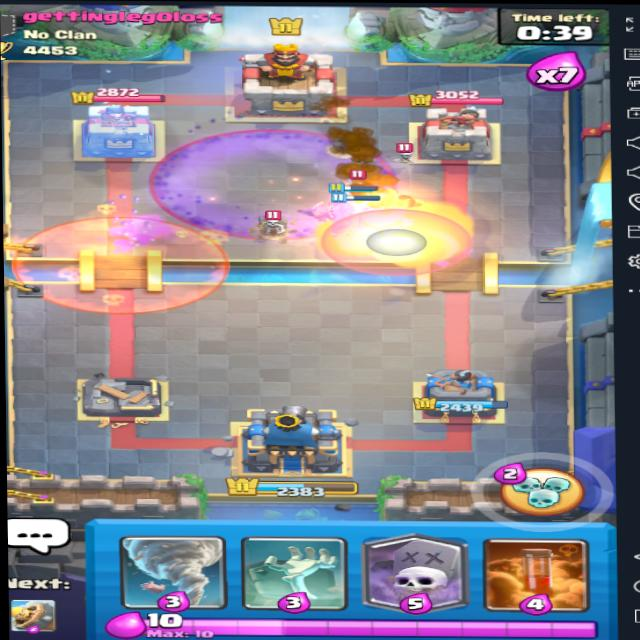graveyard: (155, 118, 403, 246)
poison: (20, 208, 227, 318)
skeleton: (384, 146, 425, 167), (253, 210, 296, 230)
